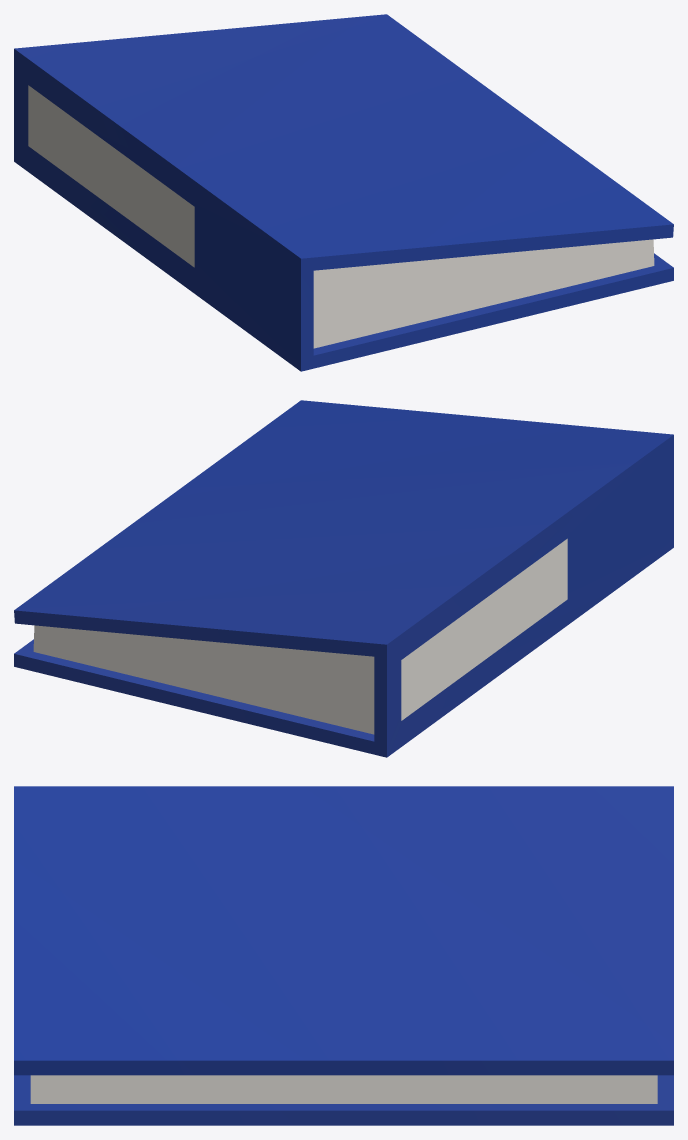
Rendered from g_o_binder.fbx.
3 views of the same model, one above another, from view 1: azimuth 30°, elevation 25°; view 2: azimuth 150°, elevation 25°; view 3: azimuth 270°, elevation 25° (orthographic). The views are drawn at different scales.
Parts seen in each view (by area): view 1: binder; view 2: binder; view 3: binder.
Part boxes in pixels (<box>): binder: <box>14,14,673,371</box>; binder: <box>14,400,673,757</box>; binder: <box>14,786,673,1125</box>.
Bounding box in the file's own units: 0.3 × 0.0869 × 0.4.
